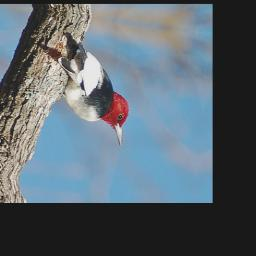Woodpecker: (47, 39, 137, 150)
